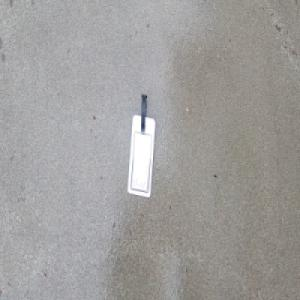LuggageTag: (126, 93, 157, 198)
